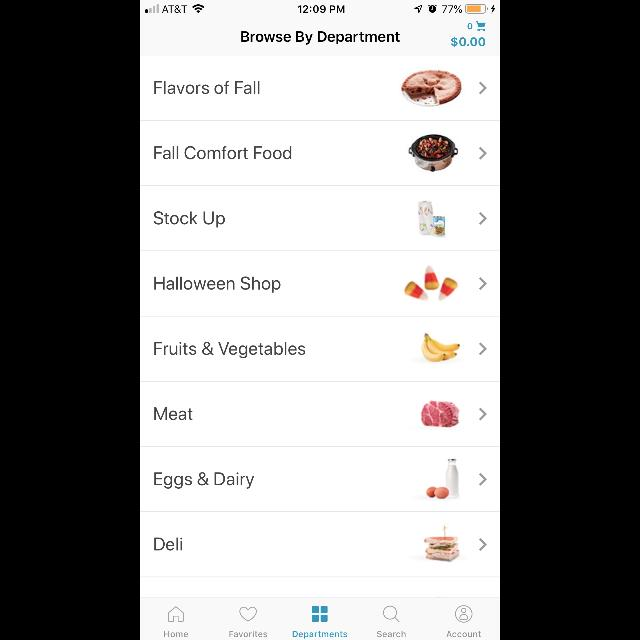icon: (382, 606, 400, 622), (168, 606, 184, 622), (240, 606, 256, 622), (312, 606, 328, 622), (456, 606, 472, 622), (476, 20, 486, 32), (479, 146, 487, 160), (479, 342, 487, 356), (479, 472, 487, 486), (479, 538, 487, 552), (479, 82, 487, 95), (479, 212, 487, 224), (479, 278, 487, 290), (479, 408, 487, 420)
image: (401, 70, 462, 108), (404, 265, 458, 301), (408, 134, 458, 172), (425, 458, 459, 500), (424, 524, 460, 562), (422, 333, 461, 363), (418, 200, 446, 238), (421, 400, 459, 428)
text: (154, 342, 306, 358), (155, 277, 281, 293), (154, 146, 292, 160), (242, 32, 400, 44), (154, 472, 254, 488), (154, 82, 260, 95), (154, 211, 226, 227), (152, 406, 190, 419), (152, 536, 182, 550), (451, 37, 485, 47), (292, 632, 348, 638), (229, 630, 267, 638), (377, 630, 405, 638), (447, 631, 481, 637), (164, 631, 188, 637), (468, 23, 472, 29)
uppertaskbar: (140, 0, 500, 14)
